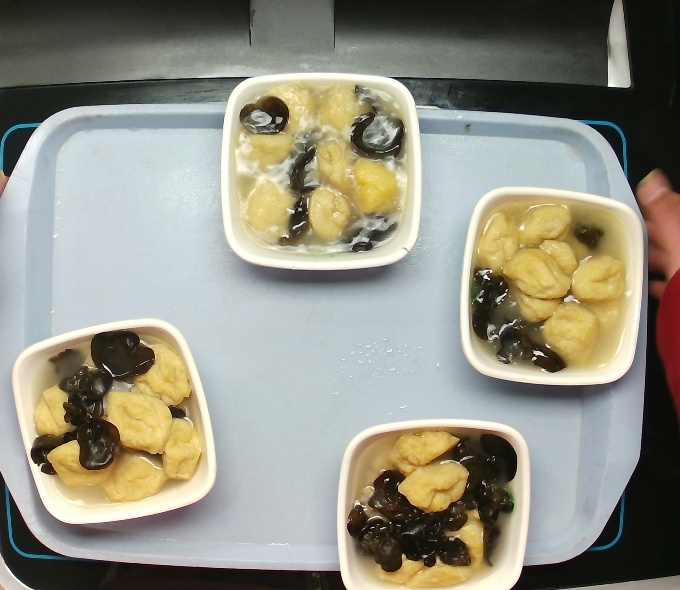wcq-MuErYouPaoTang: (224, 78, 417, 255), (25, 330, 204, 506), (474, 189, 628, 380), (346, 423, 517, 587)
